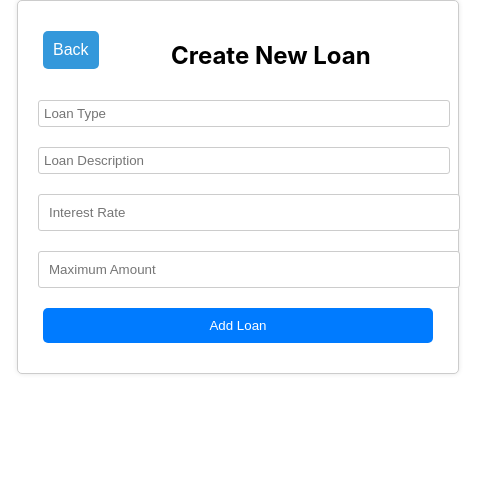
LoanForm Component › loanform_should_handle_validation_errors_when_adding_a_new_loan
The image size is (477, 480).
// Simulate user input for adding a new loan with missing fields
Click the button "Add Loan" at (238, 325), box [43,308,433,343]
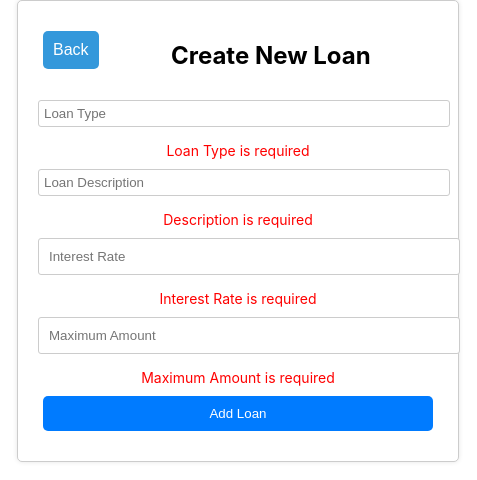
Result: the text "Maximum Amount is required" is shown at [141,369,335,386]
Result: the text "Interest Rate is required" is shown at [160,290,316,307]
Result: the text "Description is required" is shown at [163,211,313,228]
